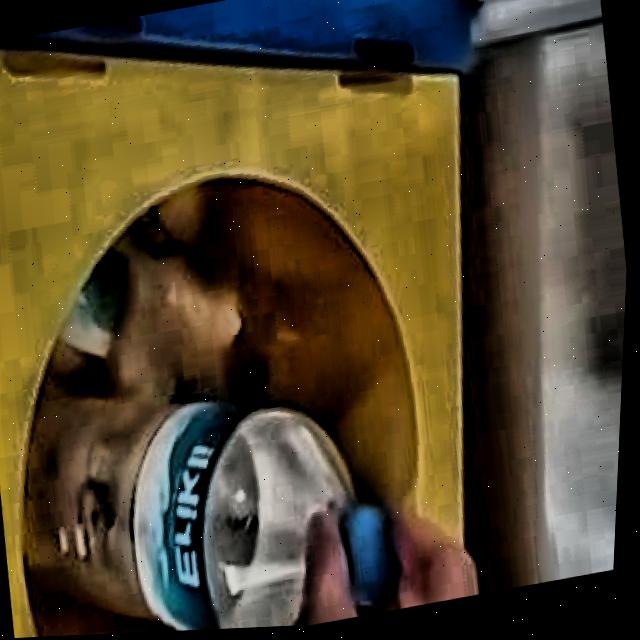plastic: (24, 392, 400, 633)
